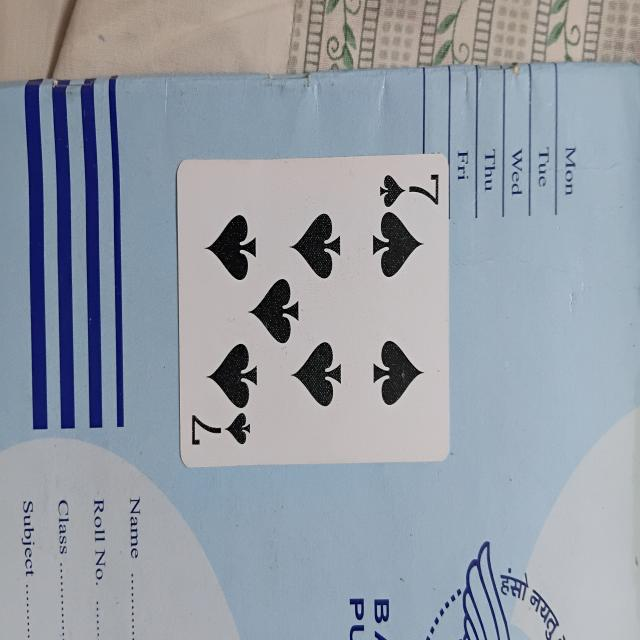7S: (175, 157, 455, 471)
